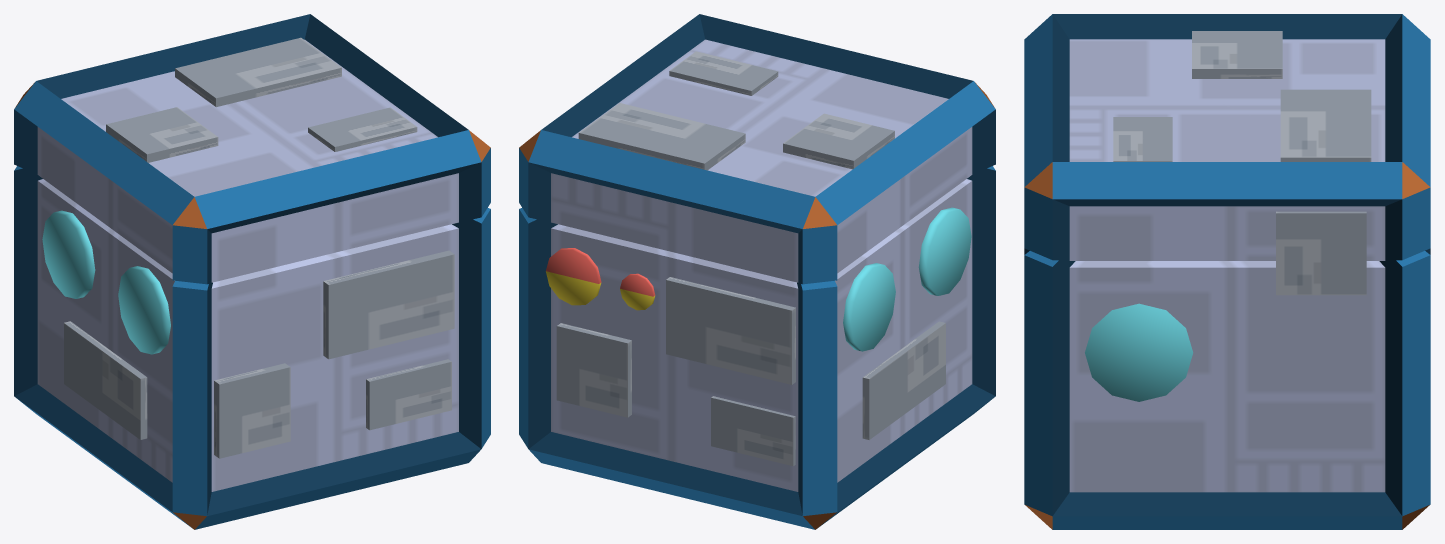
The model's file is sw_crate_T_one.fbx.
The picture shows the model from 3 angles, left to right: view 1: azimuth 30°, elevation 25°; view 2: azimuth 150°, elevation 25°; view 3: azimuth 270°, elevation 25°; orthographic projection. The views are drawn at different scales.
Parts seen in each view (by area): view 1: sw_crate_T_one; view 2: sw_crate_T_one; view 3: sw_crate_T_one.
Part boxes in pixels (left/top/right/bottom): sw_crate_T_one: left=14, top=14, right=490, bottom=529; sw_crate_T_one: left=519, top=14, right=995, bottom=529; sw_crate_T_one: left=1024, top=14, right=1430, bottom=529.
Bounding box in the file's own units: 1.8 × 1.8 × 1.8.
